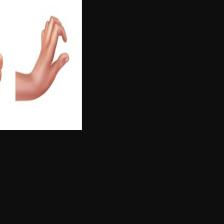five: (31, 16, 72, 104)
